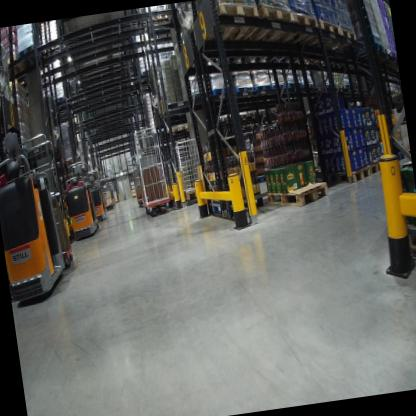pallet: (252, 33, 386, 96), (231, 0, 302, 58), (196, 0, 267, 54), (263, 7, 323, 55), (288, 14, 344, 62), (264, 176, 330, 212), (206, 187, 268, 222), (317, 24, 360, 64), (319, 161, 372, 187), (14, 42, 45, 78), (0, 47, 29, 85), (142, 8, 172, 44), (180, 183, 207, 206), (162, 95, 193, 115), (210, 81, 235, 102), (232, 79, 258, 97), (189, 86, 213, 105), (43, 39, 64, 59), (405, 224, 416, 262), (367, 156, 388, 175), (51, 92, 69, 112), (59, 157, 77, 173), (284, 79, 303, 94), (298, 77, 315, 92), (269, 82, 288, 95), (319, 79, 338, 92), (220, 112, 237, 125), (177, 120, 193, 131), (165, 125, 180, 136), (246, 109, 259, 119), (267, 105, 281, 114), (213, 115, 224, 125), (256, 108, 269, 116), (337, 81, 347, 90), (238, 111, 248, 120)
pallet_truck: (0, 120, 86, 313), (55, 156, 105, 250), (134, 142, 179, 220), (128, 151, 153, 214), (85, 165, 109, 227), (98, 176, 118, 207)
